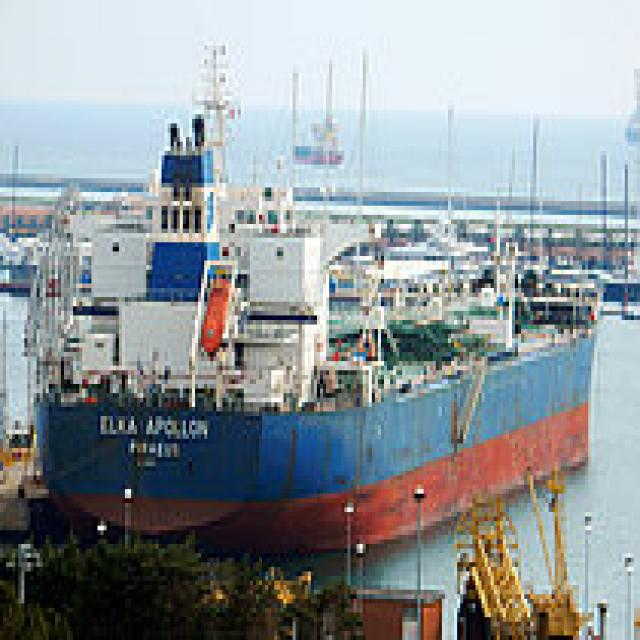Tanker: (28, 36, 598, 548)
